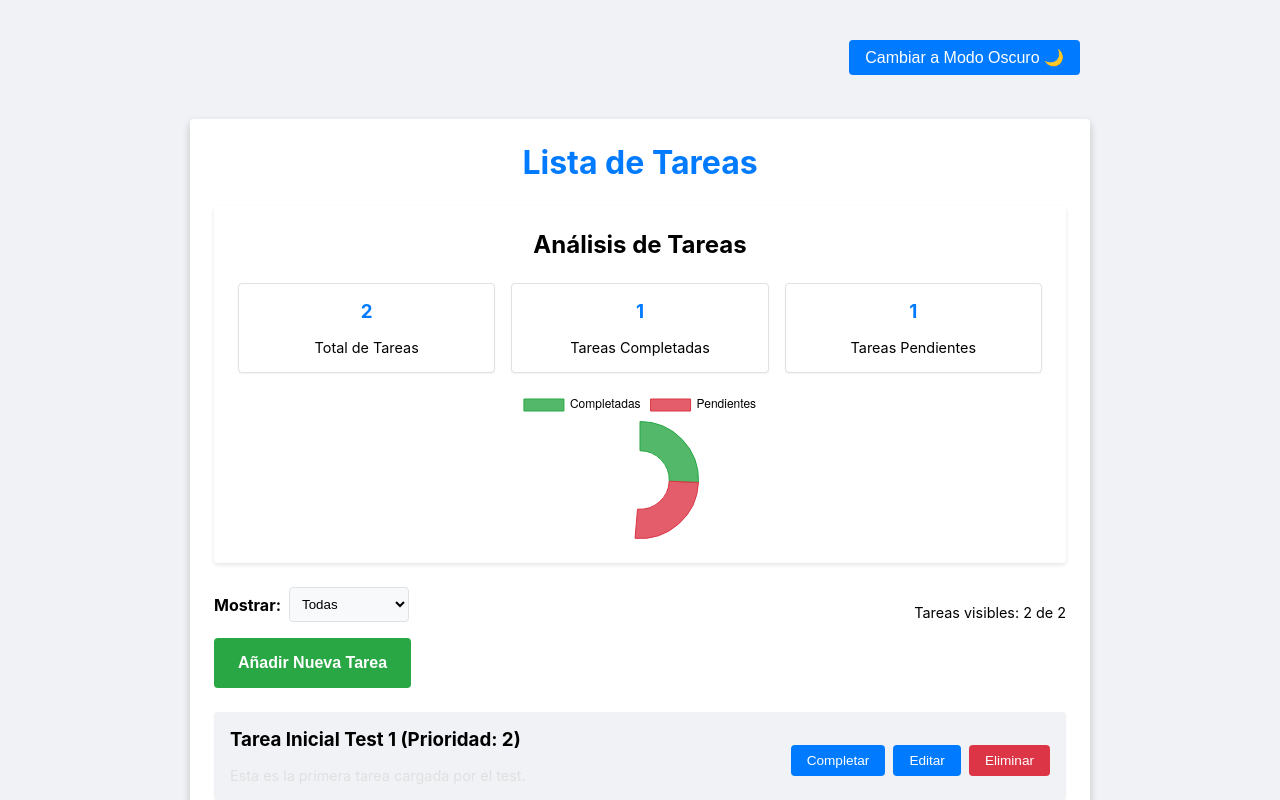
Test case: Task List Component › should delete a task
The image size is (1280, 800).
Note: Encuentra la tarea y el botón "Eliminar"
Click the button "Eliminar".
click(1010, 761)  # box [969, 745, 1050, 776]
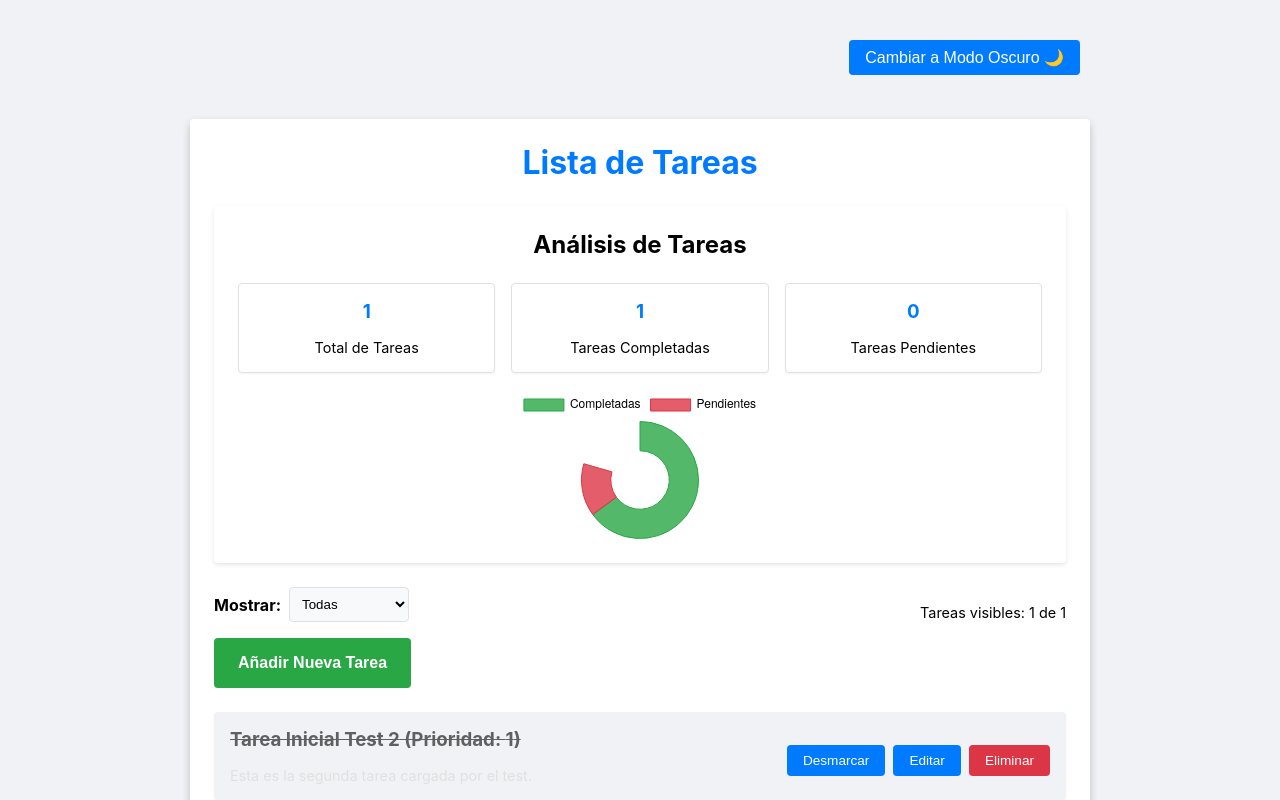
Expected: the heading "Tarea Inicial Test 1" is gone
